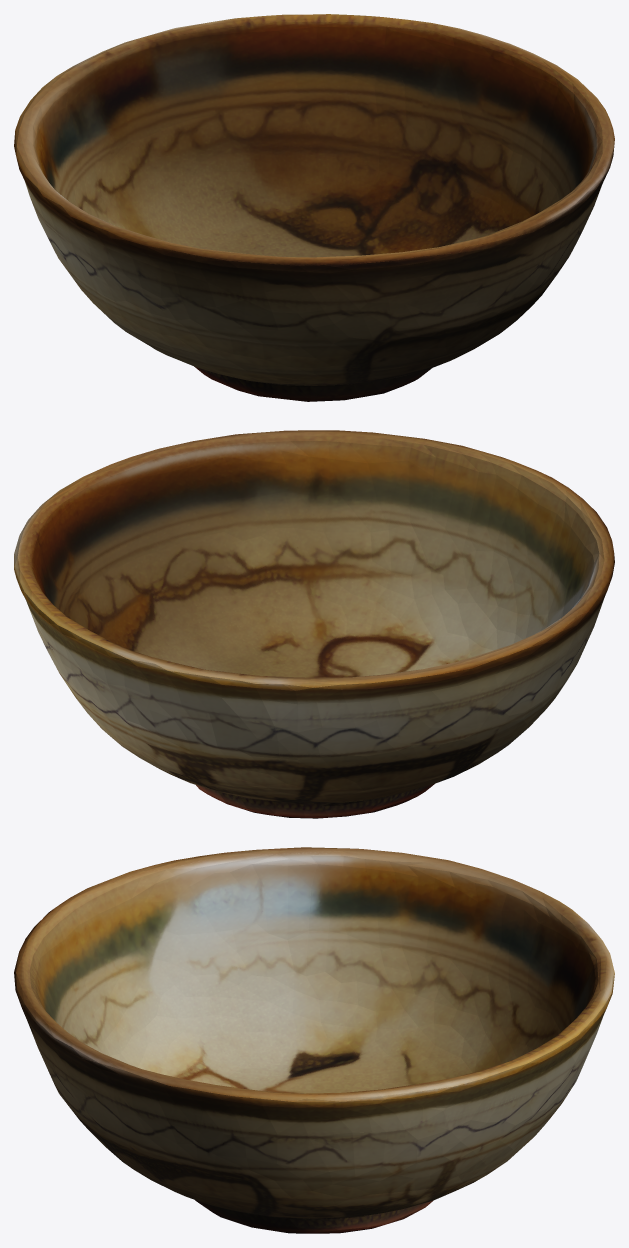
Rendered from ceramic-dishwasher-safe-bowl-used-rustic-worn.jpeg.glb.
The picture shows the model from 3 angles, top to bottom: view 1: azimuth 30°, elevation 25°; view 2: azimuth 150°, elevation 25°; view 3: azimuth 270°, elevation 25°; orthographic projection.
Visible parts, largest first — view 1: world; view 2: world; view 3: world.
Boxes of the visible parts, x1,y1,x2,y2 form: world: [14, 14, 614, 401]; world: [14, 430, 614, 818]; world: [14, 847, 614, 1233].
Size of the model in its own units: 0.9984 by 0.3935 by 1.
Materials: 1 (1 with a texture image).
